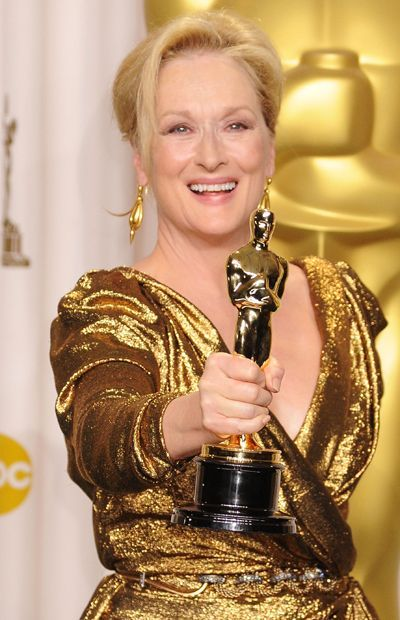hand: (205, 358, 269, 428)
